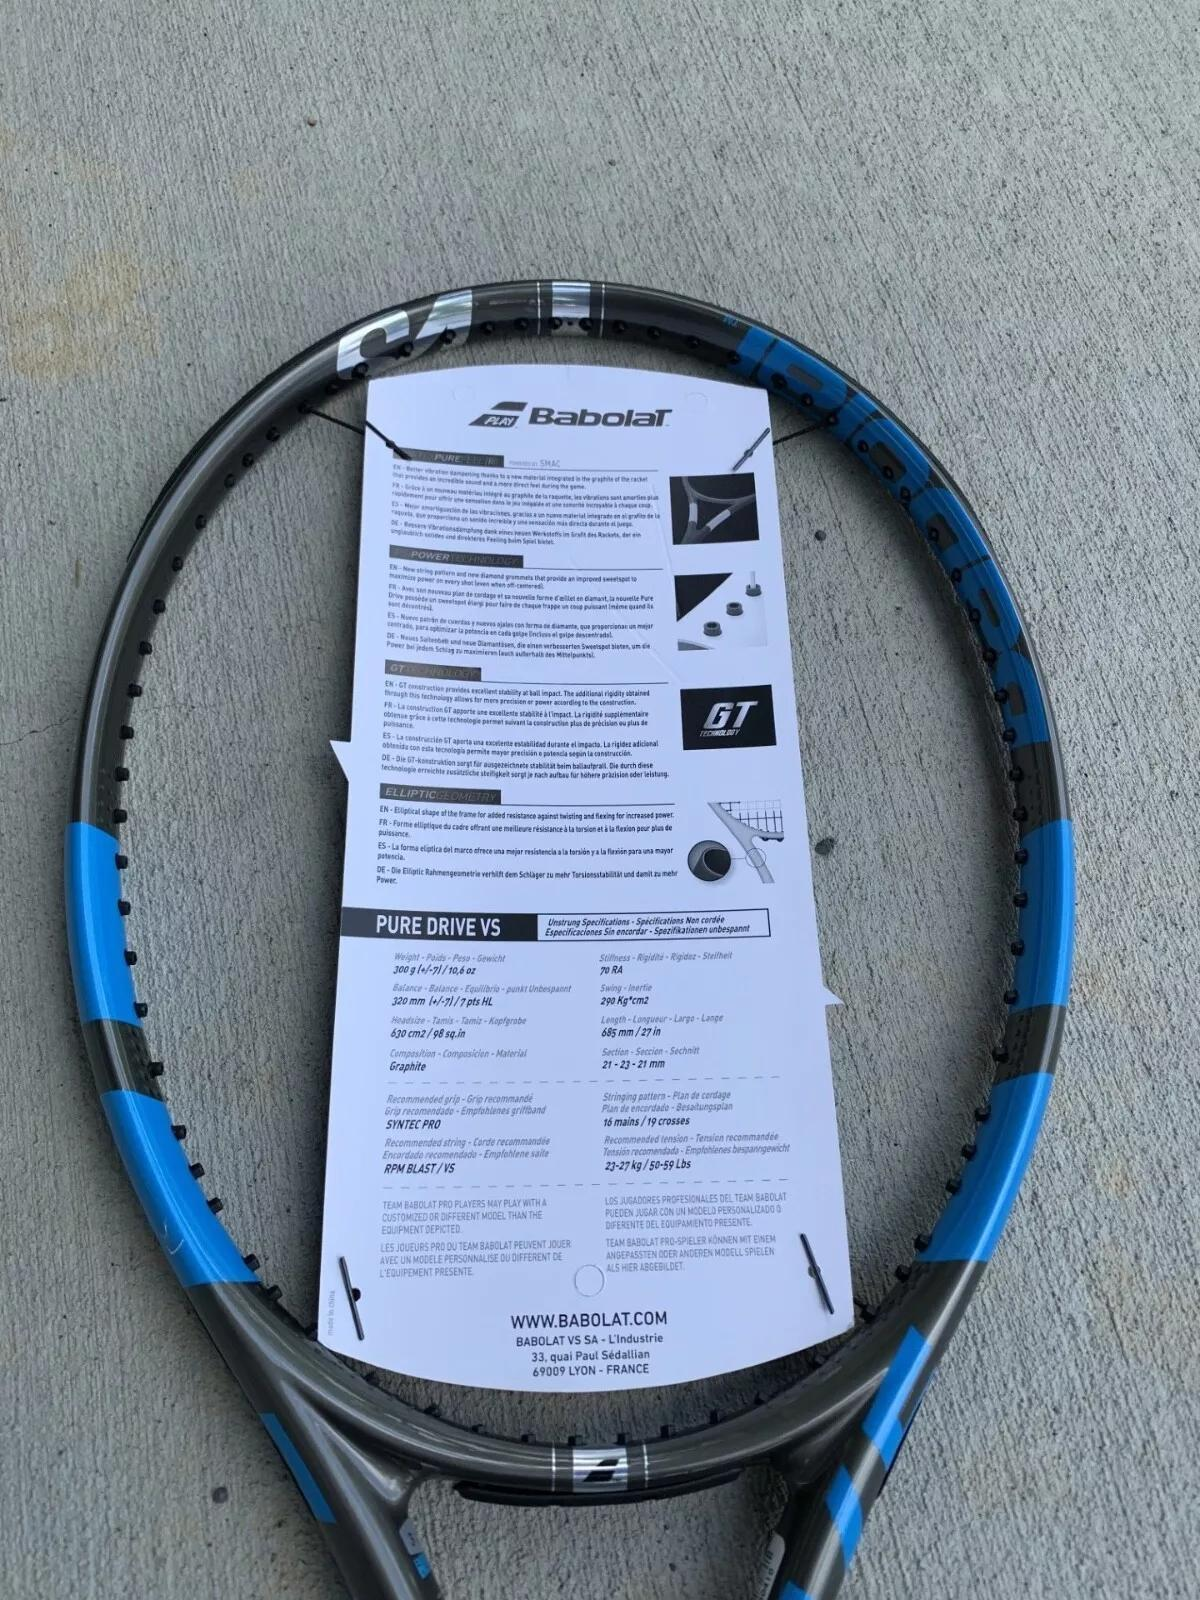Tennis-Racket: (66, 278, 1075, 1600)
